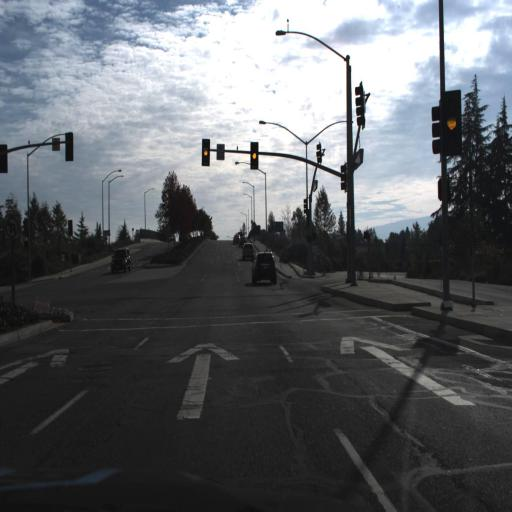car: (251, 249, 278, 286), (109, 245, 130, 273), (242, 243, 254, 261)
trafficLight-Yellow: (444, 92, 459, 151), (201, 137, 210, 168), (250, 141, 259, 171)
